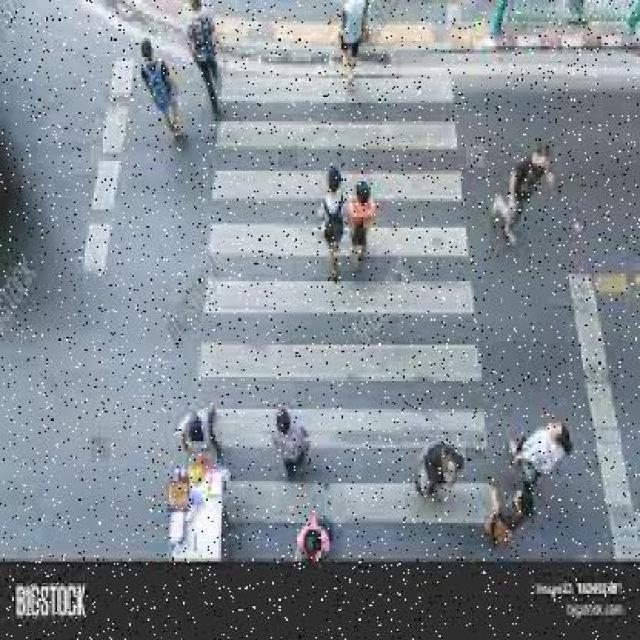crosswalk: (167, 64, 504, 560)
